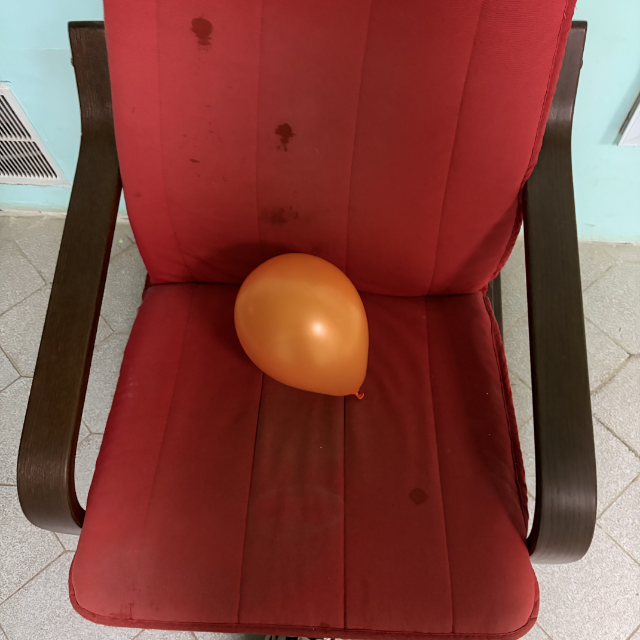balloon: (233, 253, 369, 400)
